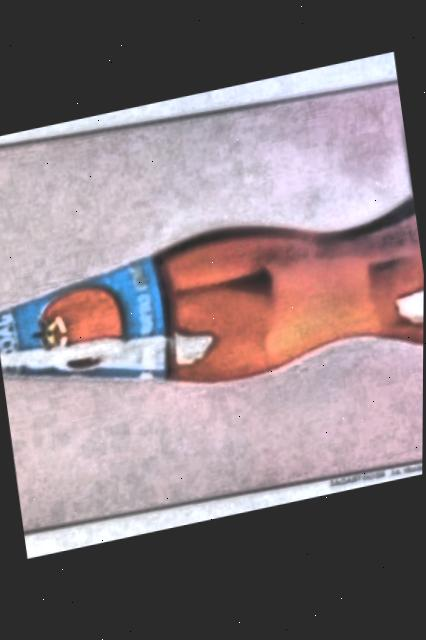La Botella: (0, 85, 424, 536)
